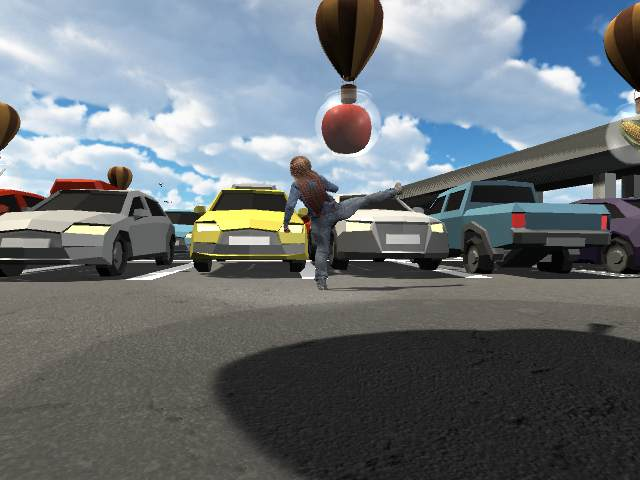turn_right: (279, 152, 402, 292)
